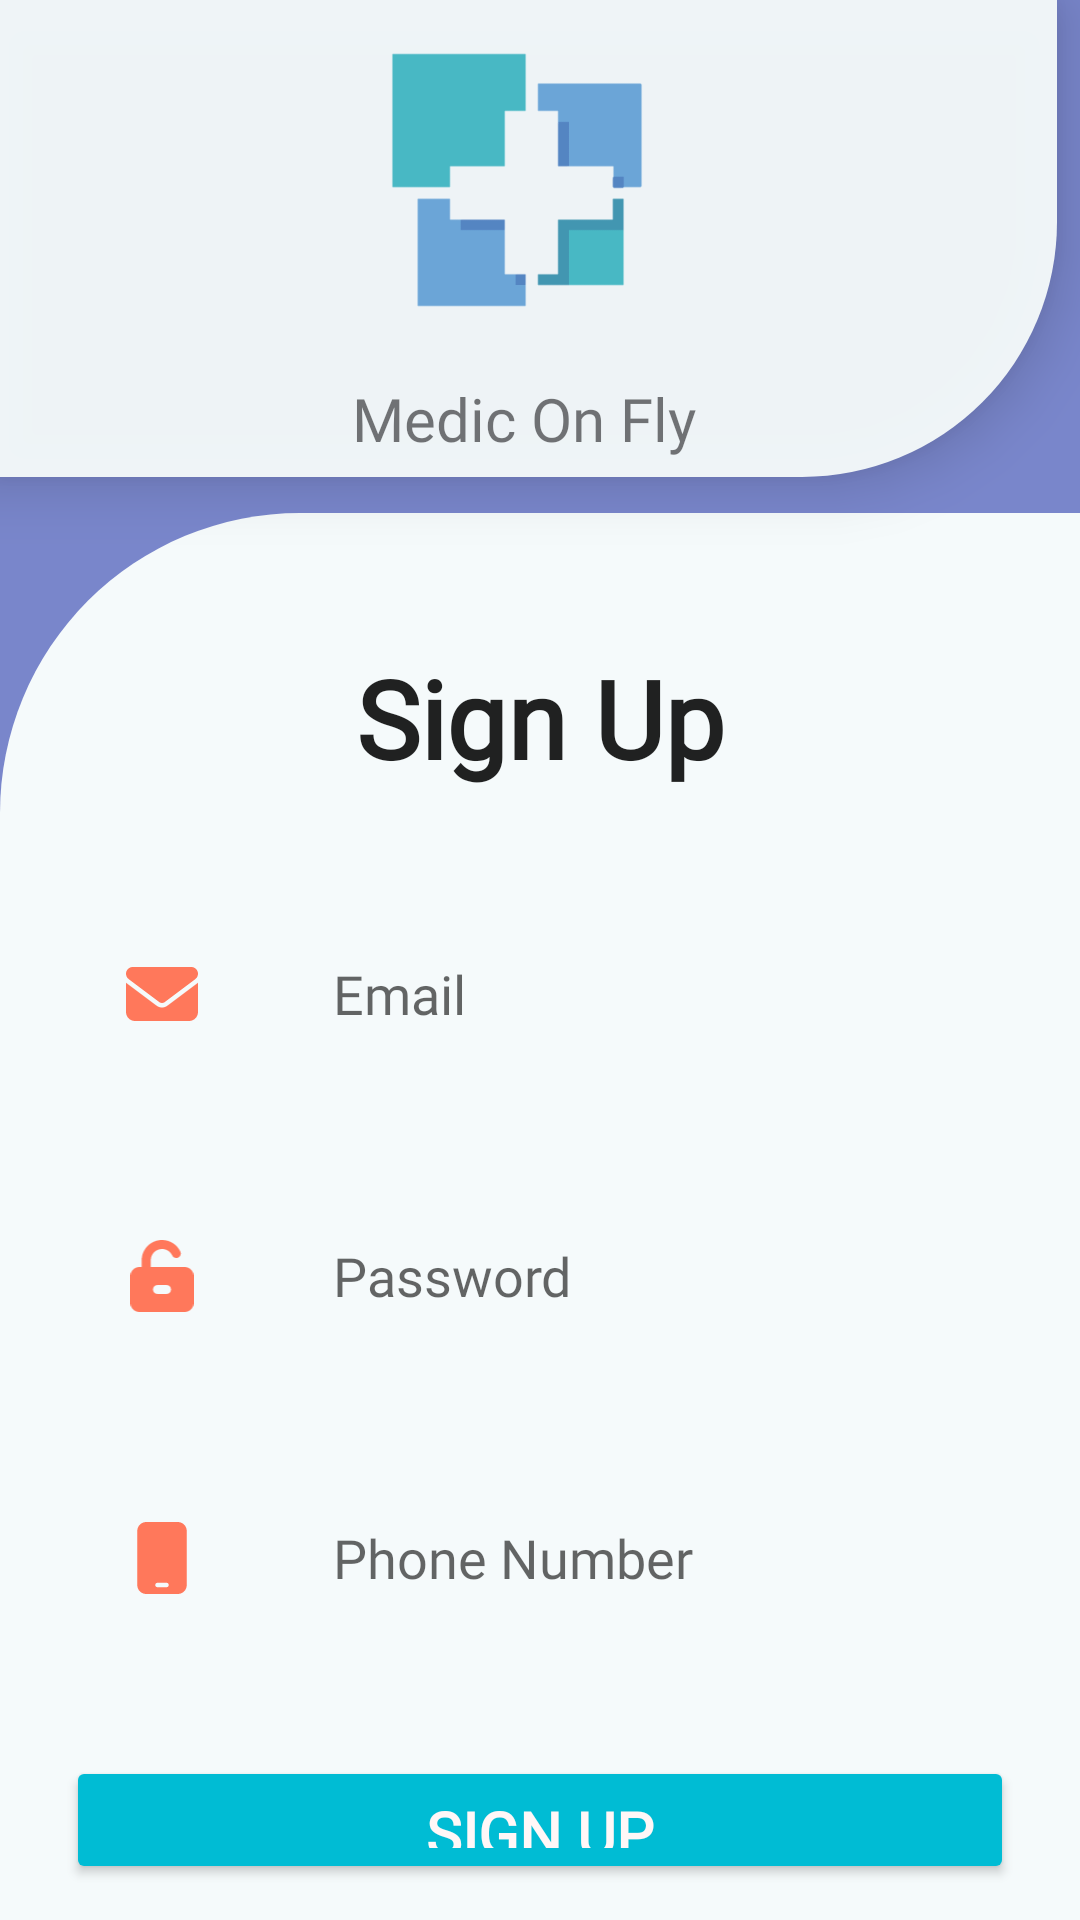

Where icons sit on this 1080px x 1920px app screen, as (x1, y1, x2, y2):
envelope: (126, 967, 198, 1021)
mobile: (137, 1522, 187, 1594)
unlock keyhole: (130, 1240, 194, 1312)
